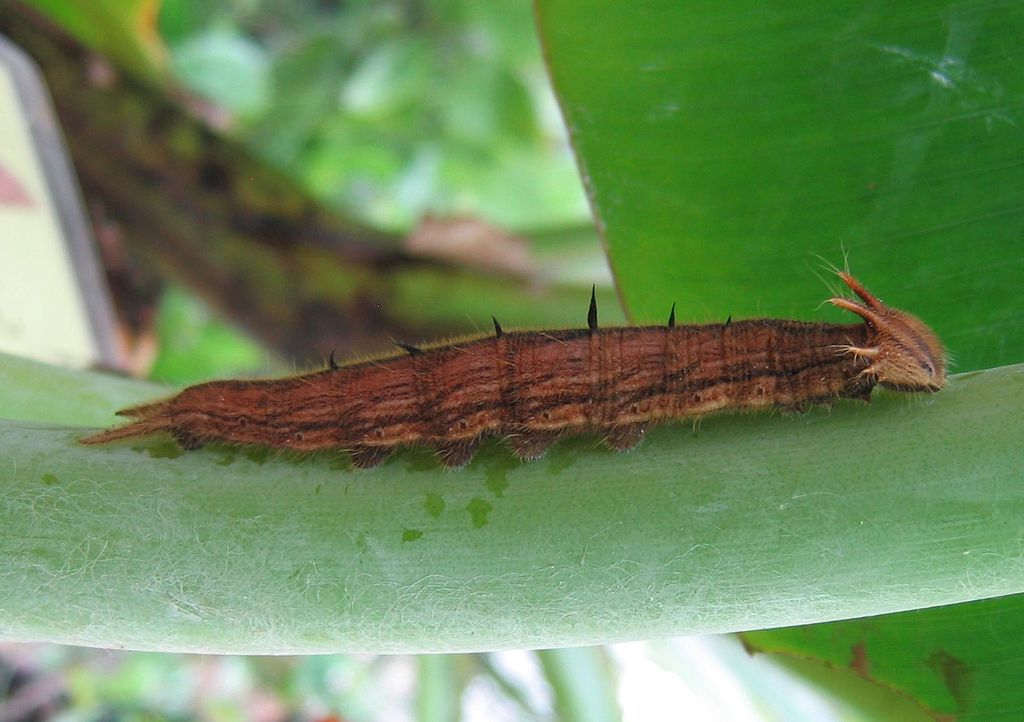Caterpillar: (80, 273, 953, 469)
